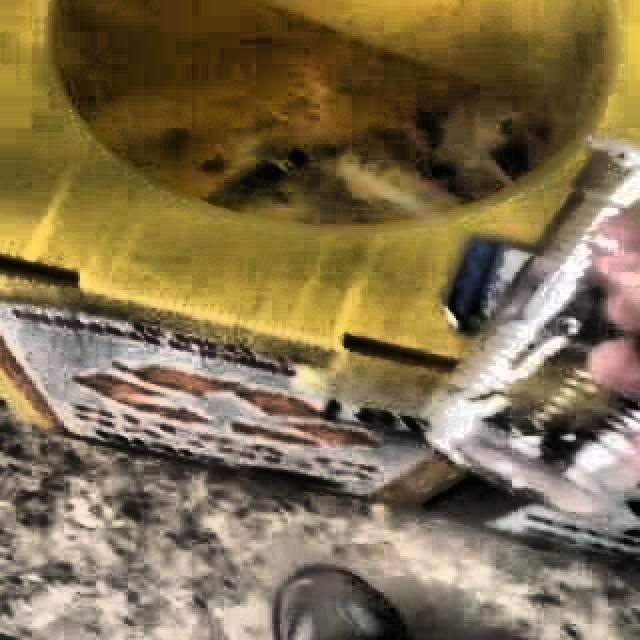plastic: (424, 138, 640, 515)
